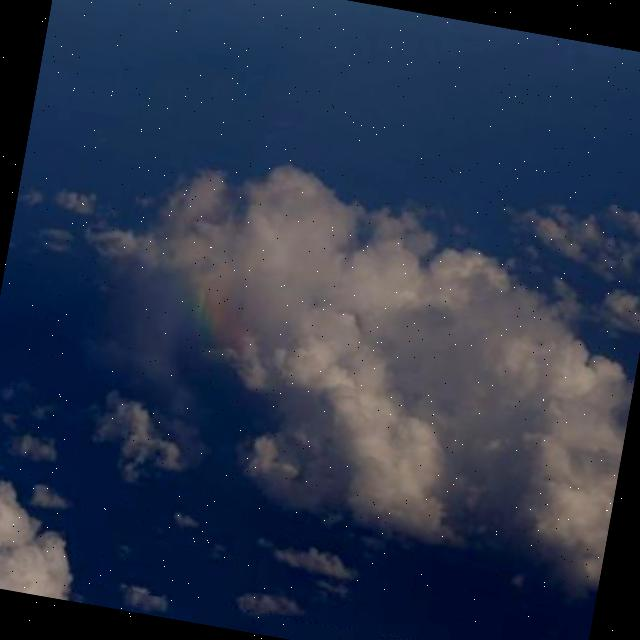Cu: (1, 4, 640, 591)
